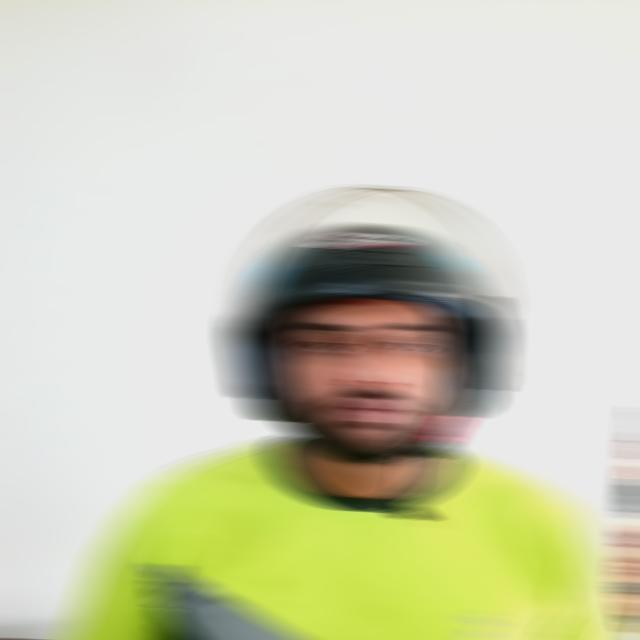With Helmet: (226, 182, 512, 423)
